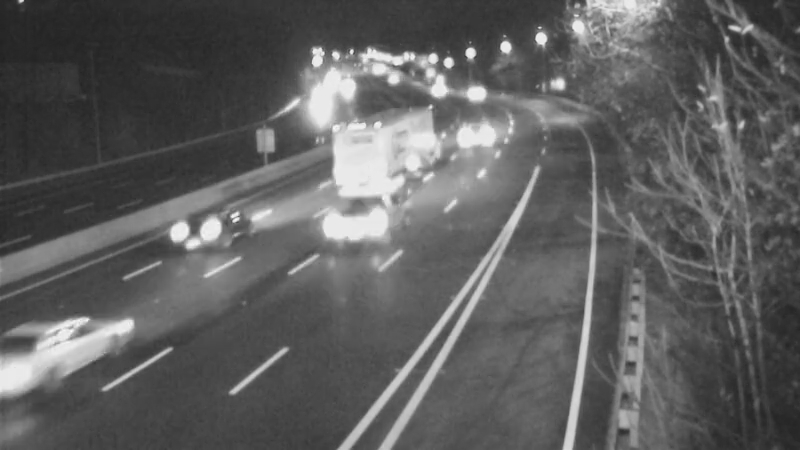vehicle: (9, 287, 119, 397), (311, 189, 391, 269), (151, 188, 231, 268), (405, 65, 455, 115), (447, 65, 497, 115), (457, 109, 507, 159), (355, 116, 405, 166), (293, 80, 343, 130)
